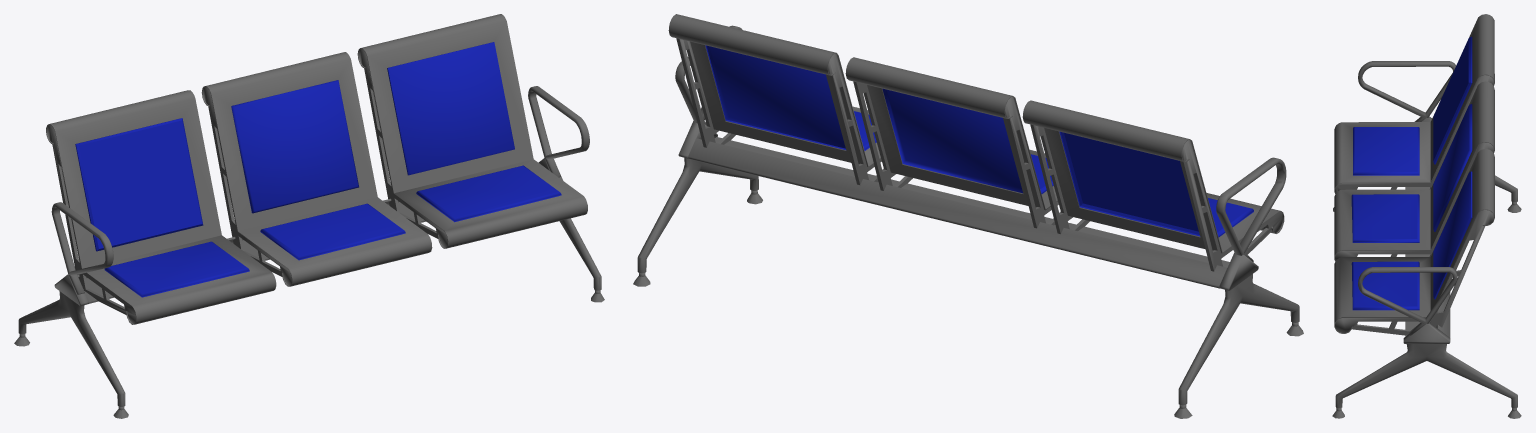
Rendered from Fence.fbx.
3 renders of one model, left to right at view 1: azimuth 30°, elevation 25°; view 2: azimuth 150°, elevation 25°; view 3: azimuth 270°, elevation 25°, orthographic. The views are drawn at different scales.
Parts seen in each view (by area): view 1: strong boy bench_obj; view 2: strong boy bench_obj; view 3: strong boy bench_obj.
Boxes of the visible parts, bbox=[...] form: strong boy bench_obj: bbox=[14, 14, 604, 418]; strong boy bench_obj: bbox=[633, 14, 1303, 418]; strong boy bench_obj: bbox=[1332, 14, 1521, 418].
Size of the model in its own units: 3277 by 1453 by 1239.
